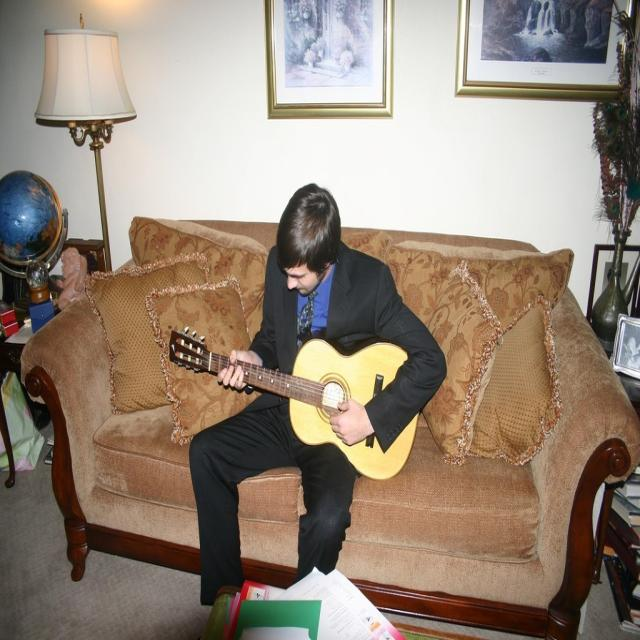guitar: (168, 328, 421, 480)
